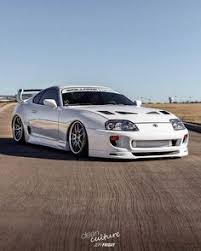car: (9, 80, 196, 171)
